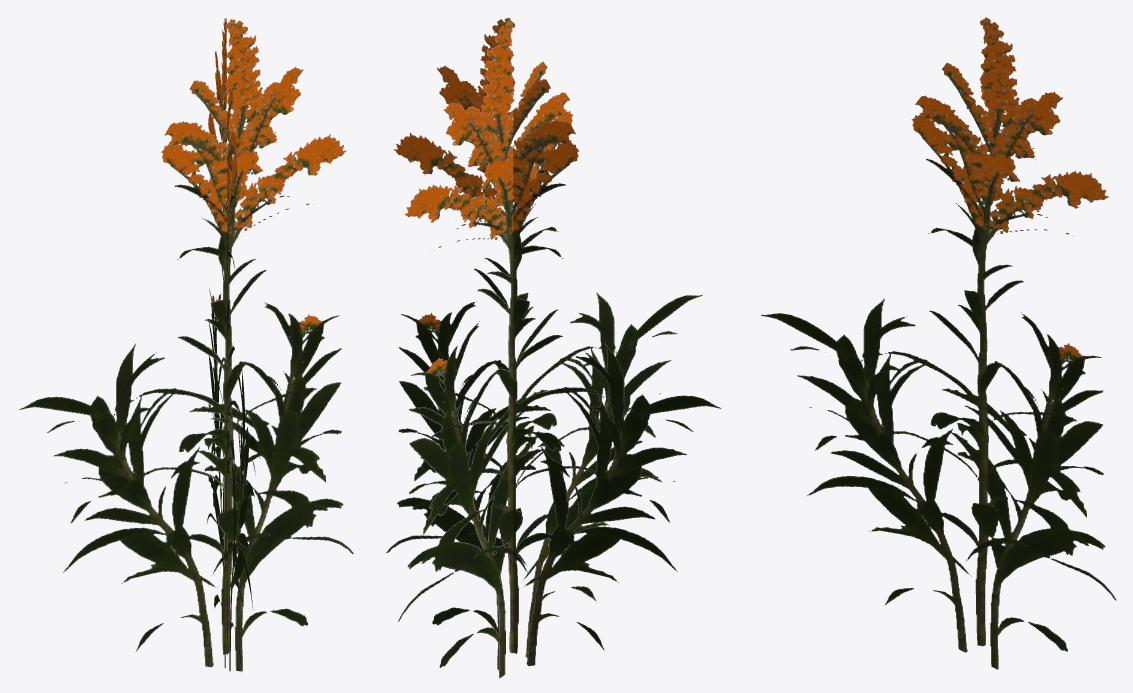
The model's file is GoldenRodFlowerClumpBillboard.fbx.
3 renders of one model, left to right at view 1: azimuth 30°, elevation 25°; view 2: azimuth 150°, elevation 25°; view 3: azimuth 270°, elevation 25°, orthographic.
Visible parts, largest first — view 1: _6xji_VarD_LOD5; view 2: _6xji_VarD_LOD5; view 3: _6xji_VarD_LOD5.
Part boxes in pixels (x1,y1,x2,y2): _6xji_VarD_LOD5: (19,18,353,672); _6xji_VarD_LOD5: (386,18,721,678); _6xji_VarD_LOD5: (761,17,1116,669).
Size of the model in its own units: 50.84 by 93.58 by 47.13.
